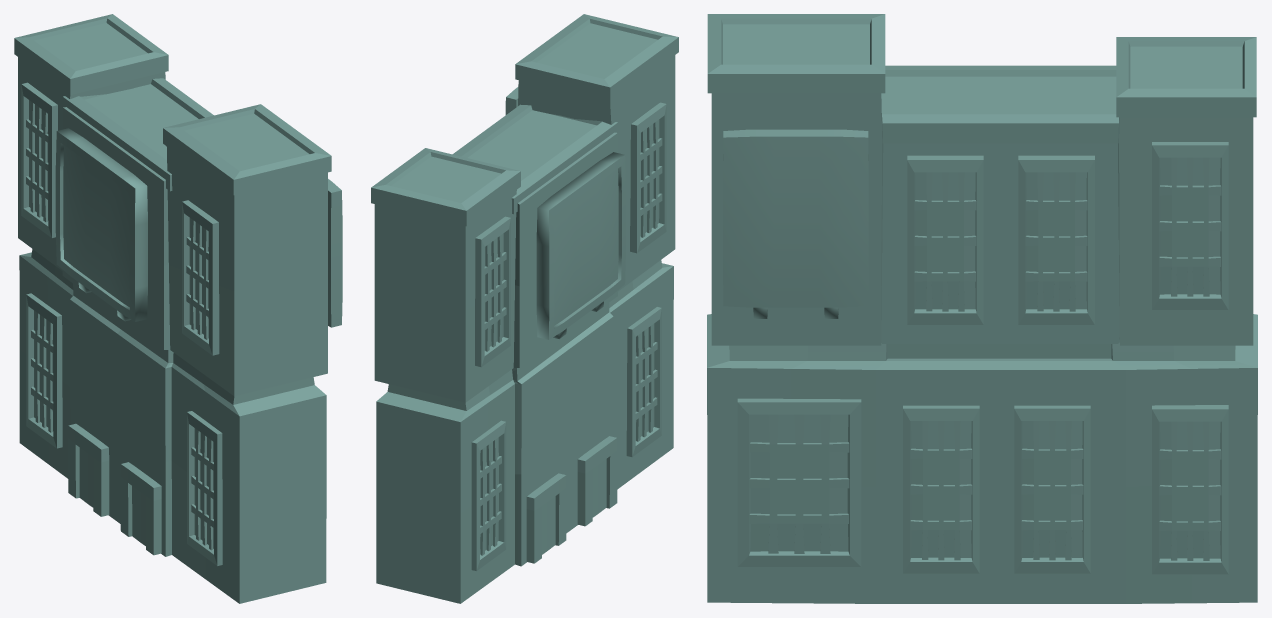
File: building 7.fbx
3 views of the same model, side by side, from view 1: azimuth 30°, elevation 25°; view 2: azimuth 150°, elevation 25°; view 3: azimuth 270°, elevation 25° (orthographic). The views are drawn at different scales.
Parts seen in each view (by area): view 1: building 7; view 2: building 7; view 3: building 7.
Part boxes in pixels (x1=…): building 7: x1=14, y1=14, x2=342, y2=603; building 7: x1=371, y1=14, x2=678, y2=603; building 7: x1=707, y1=14, x2=1257, y2=603.
Bounding box in the file's own units: 1492 × 4397 × 4088.
